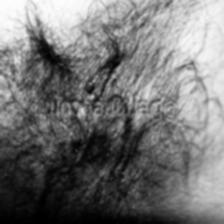Unclassified: (72, 125, 104, 191), (72, 60, 102, 94)
